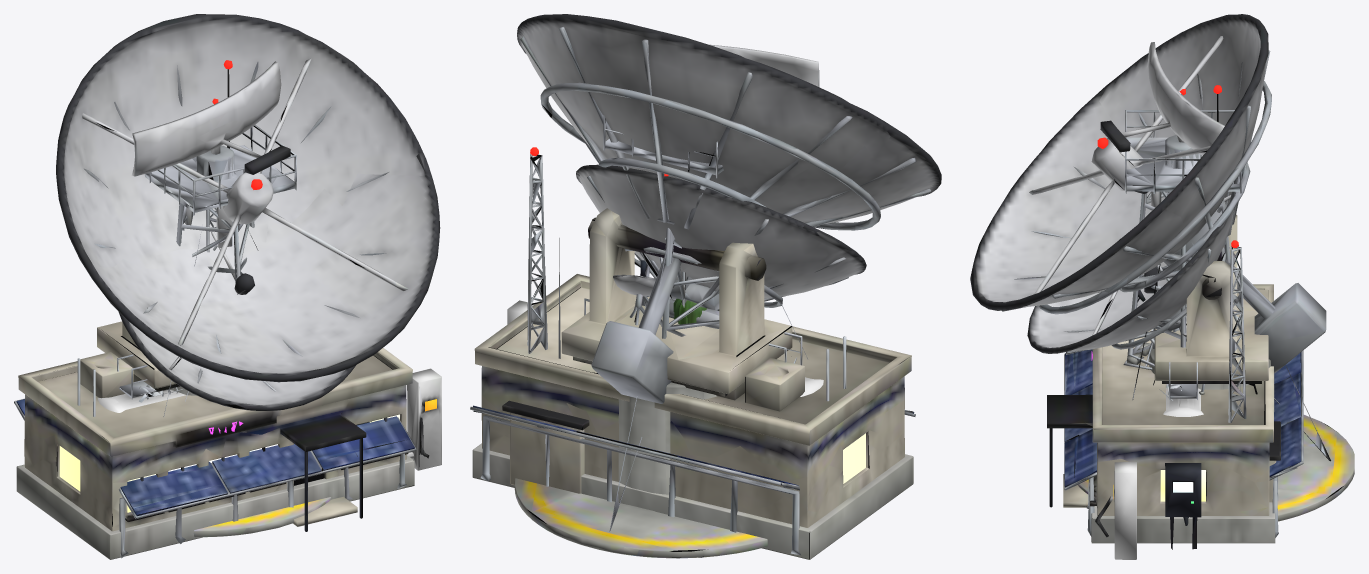
The model's file is digital_decor_satellite.glb.
3 renders of one model, left to right at view 1: azimuth 30°, elevation 25°; view 2: azimuth 150°, elevation 25°; view 3: azimuth 270°, elevation 25°, orthographic. The views are drawn at different scales.
Visible parts, largest first — view 1: Telescope, Control, FuelTank, Radar, Array, BigDish, Mast; view 2: Telescope, Control, BigDish, FuelTank, Radar, Array, Mast; view 3: Telescope, Control, Radar, BigDish, Array, FuelTank, Mast.
Boxes of the visible parts, left/top/right/bottom form: Telescope: left=56, top=14, right=440, bottom=537; Control: left=18, top=348, right=412, bottom=531; FuelTank: left=16, top=354, right=441, bottom=559; Radar: left=131, top=60, right=296, bottom=282; Array: left=14, top=398, right=416, bottom=558; BigDish: left=118, top=227, right=355, bottom=410; Mast: left=163, top=98, right=258, bottom=416; Telescope: left=514, top=14, right=941, bottom=558; Control: left=474, top=147, right=911, bottom=527; BigDish: left=576, top=164, right=866, bottom=328; FuelTank: left=472, top=298, right=913, bottom=559; Radar: left=502, top=44, right=819, bottom=493; Array: left=470, top=405, right=915, bottom=555; Mast: left=609, top=246, right=807, bottom=531; Telescope: left=970, top=14, right=1354, bottom=521; Control: left=1047, top=240, right=1273, bottom=515; Radar: left=1100, top=42, right=1280, bottom=502; BigDish: left=1027, top=191, right=1235, bottom=354; Array: left=1064, top=349, right=1303, bottom=549; FuelTank: left=1091, top=362, right=1275, bottom=559; Mast: left=1132, top=89, right=1330, bottom=461.
Bounding box in the file's own units: 3.62 × 4.2 × 3.35.
9 materials, 1 textured.
